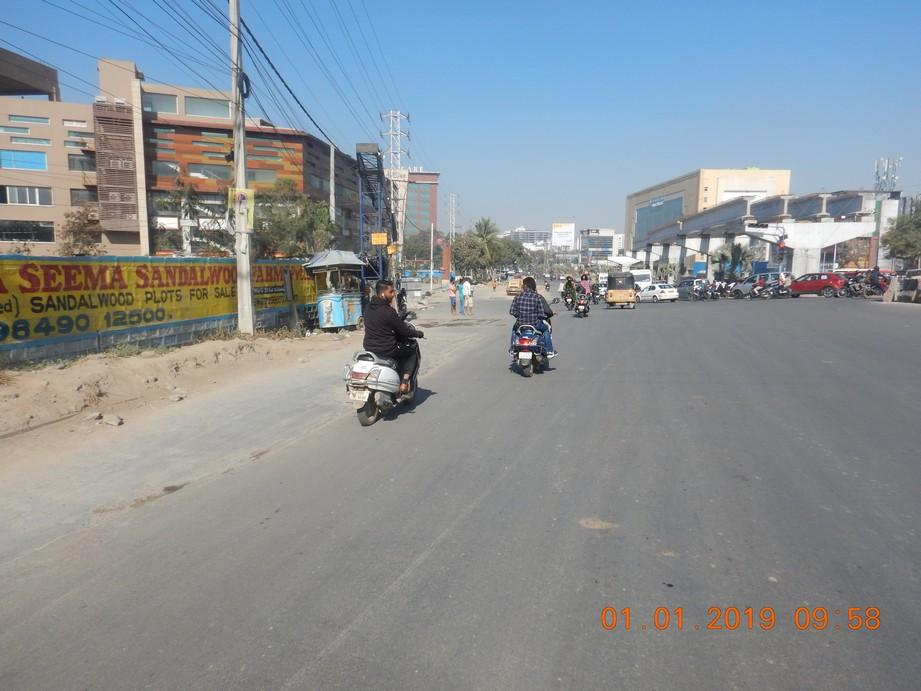plate: (348, 389, 369, 403), (517, 350, 533, 360)
